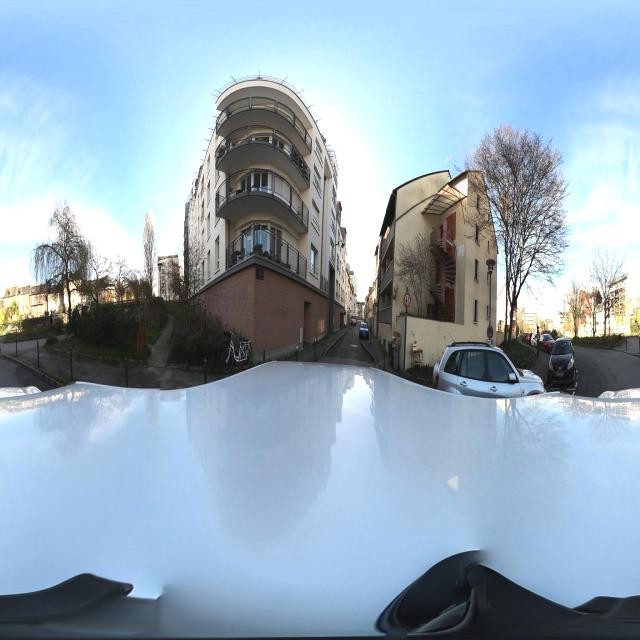car: (431, 338, 544, 398), (547, 336, 577, 389), (358, 320, 369, 340)
